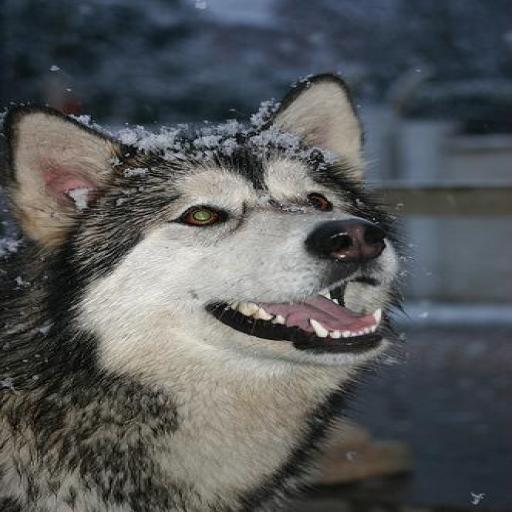dog_face: (12, 91, 434, 378)
